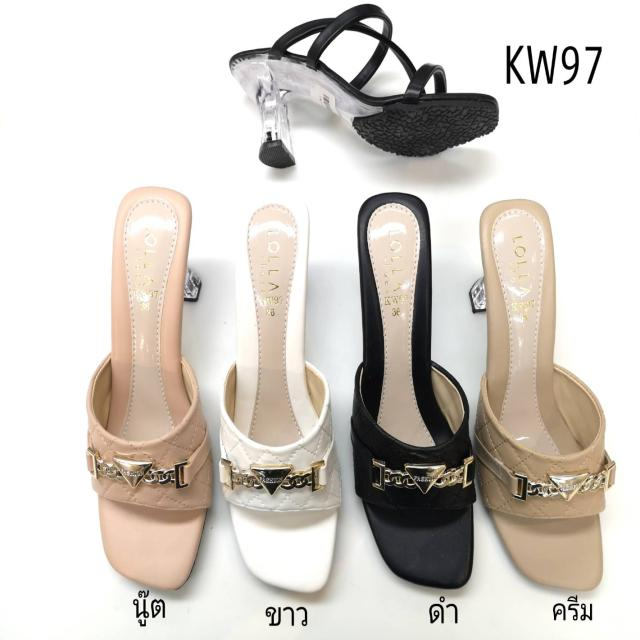black: (355, 194, 477, 582)
cream: (480, 193, 602, 584)
nood: (99, 188, 210, 587)
white: (233, 196, 339, 590)
